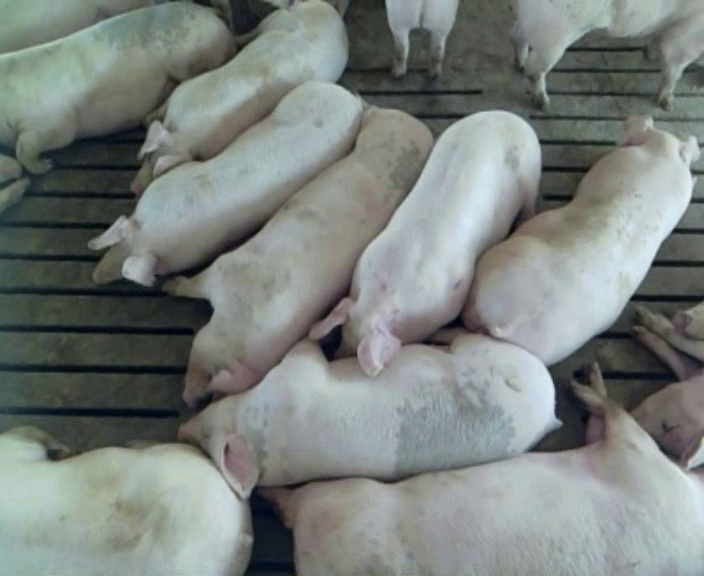pig: (263, 365, 703, 574), (165, 108, 432, 406), (179, 328, 559, 497), (312, 111, 540, 375), (463, 116, 698, 363), (89, 82, 361, 285), (132, 2, 347, 194), (0, 3, 235, 172), (511, 2, 703, 109), (632, 307, 703, 466), (0, 1, 151, 53), (387, 1, 458, 77)
